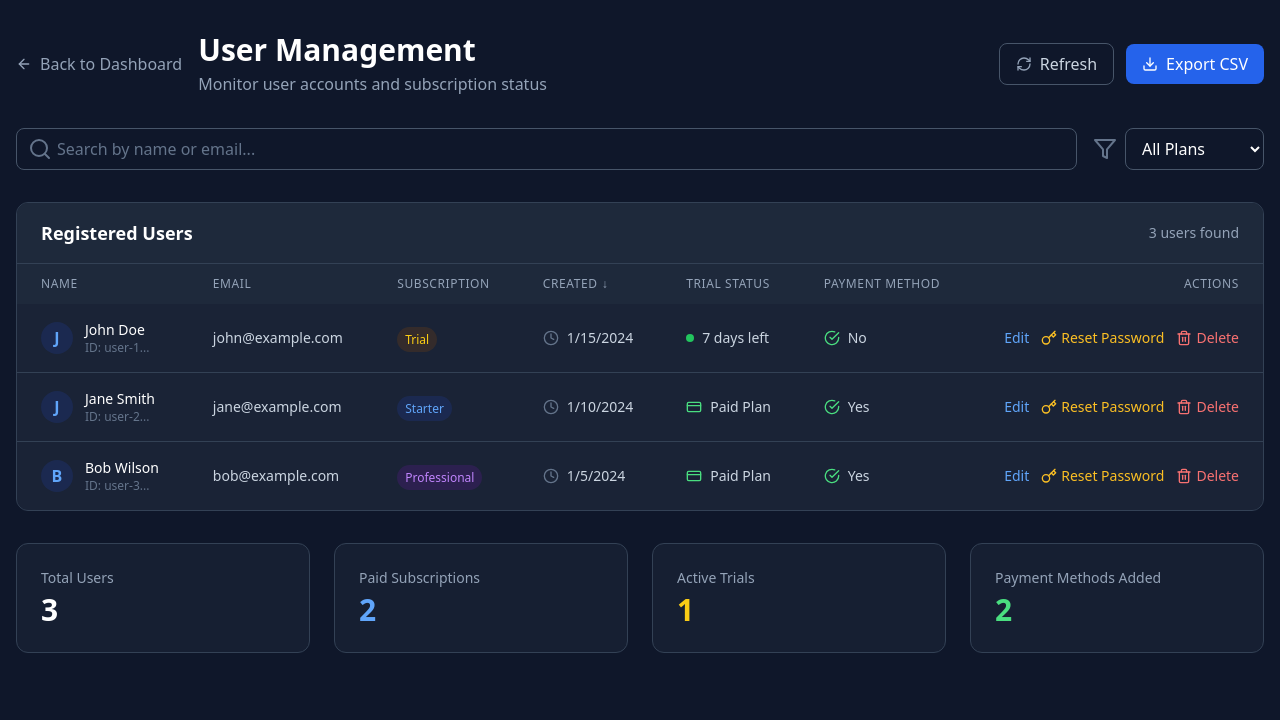
Scenario: UserDashboard Component › Plan Filter › should filter by starter plan
Expected: the text "Jane Smith" is shown, [85,389,155,409]
Select "Starter" in the dropdown: coordinates (1194, 149) [1125,128,1264,170]
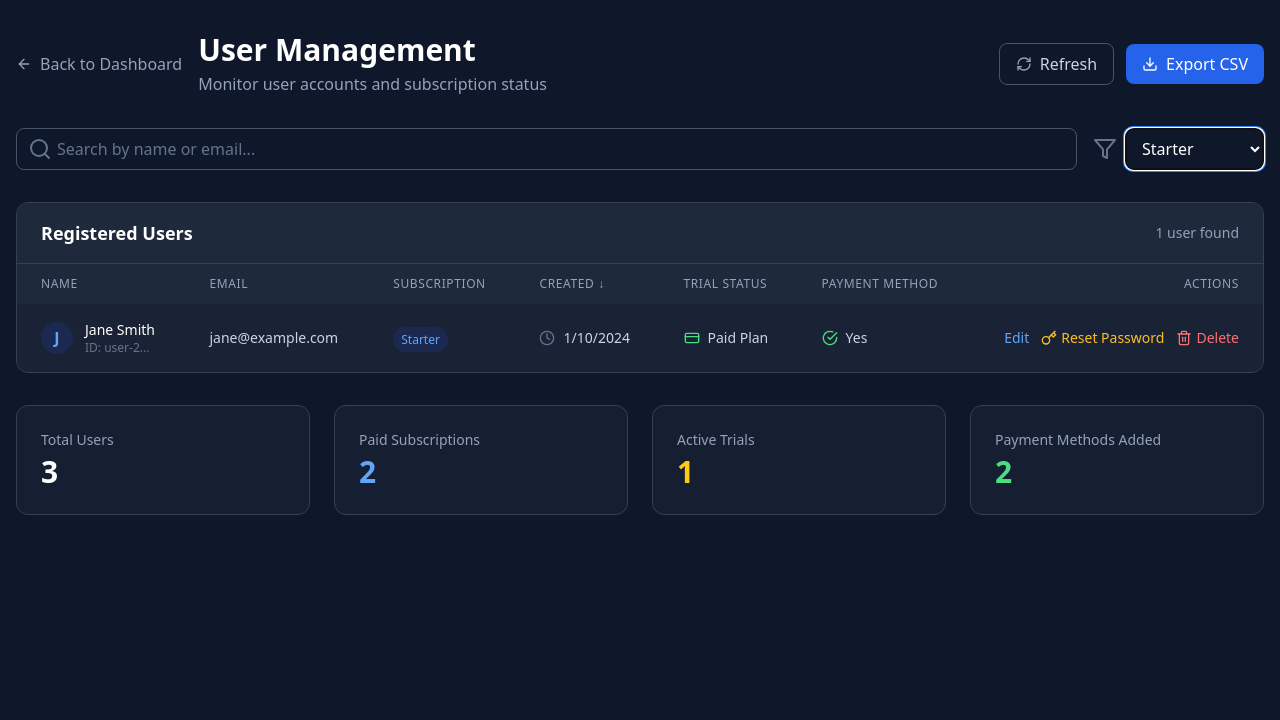
Expected: the text "Jane Smith" is shown, [85,320,155,340]
Now the text "John Doe" is gone
